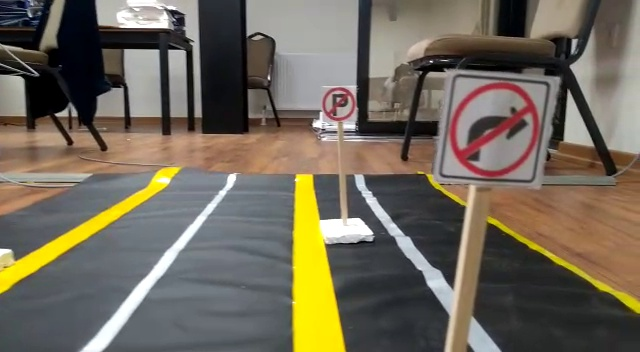park_yapilmaz: (321, 87, 358, 121)
saga_donulmez: (444, 73, 540, 177)
